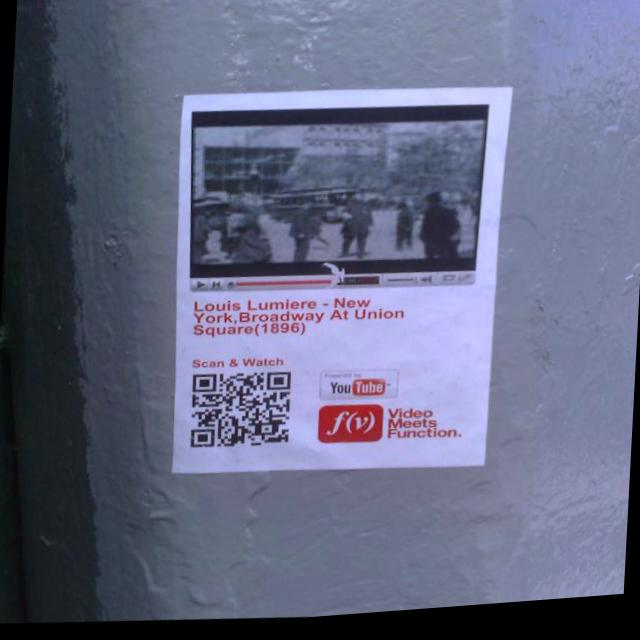qrcode: (191, 373, 293, 456)
